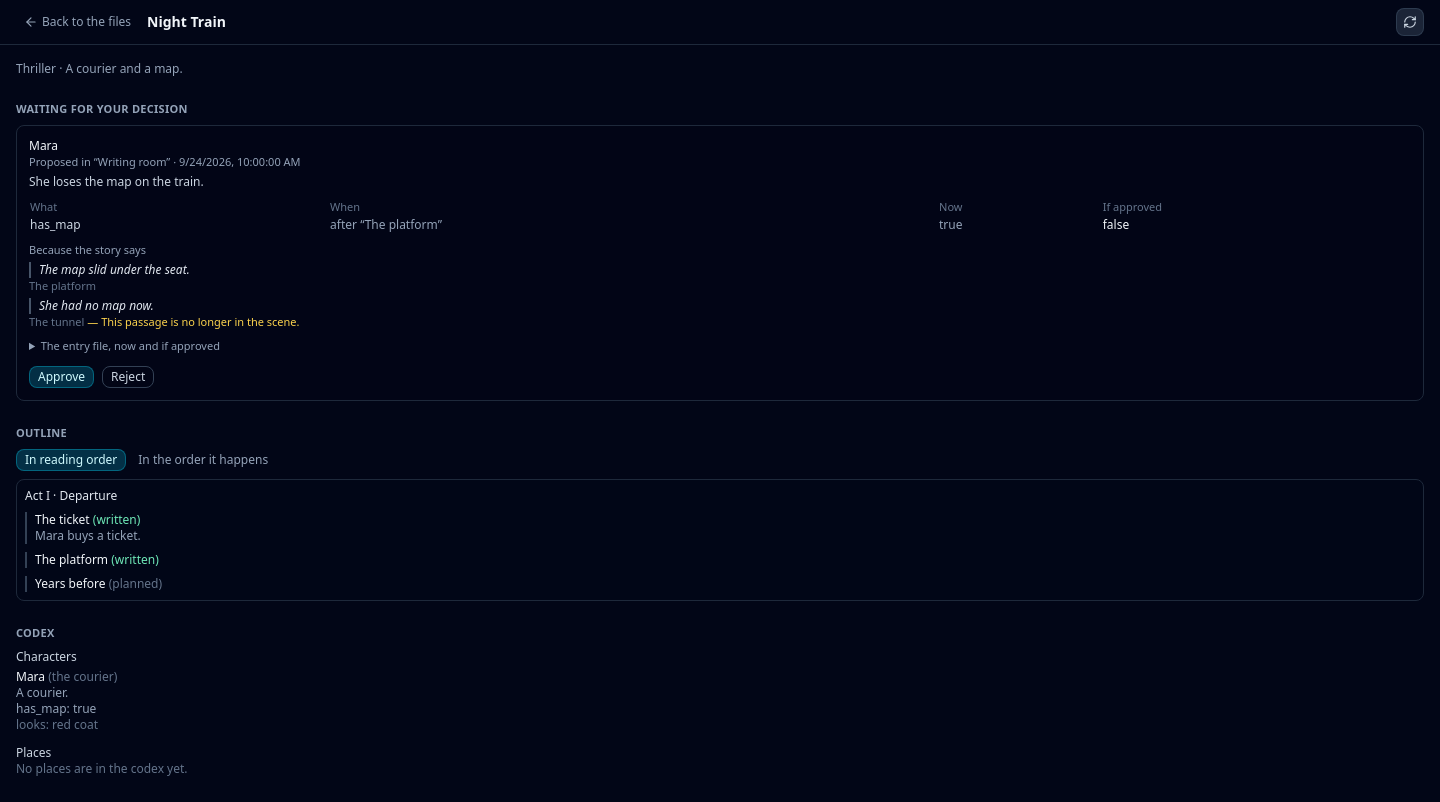
StoryView, a story in Files (#1560) › says plainly when no confirmed window could be opened
Click the button with test id "story-approve": (62, 377) [29,366,94,388]
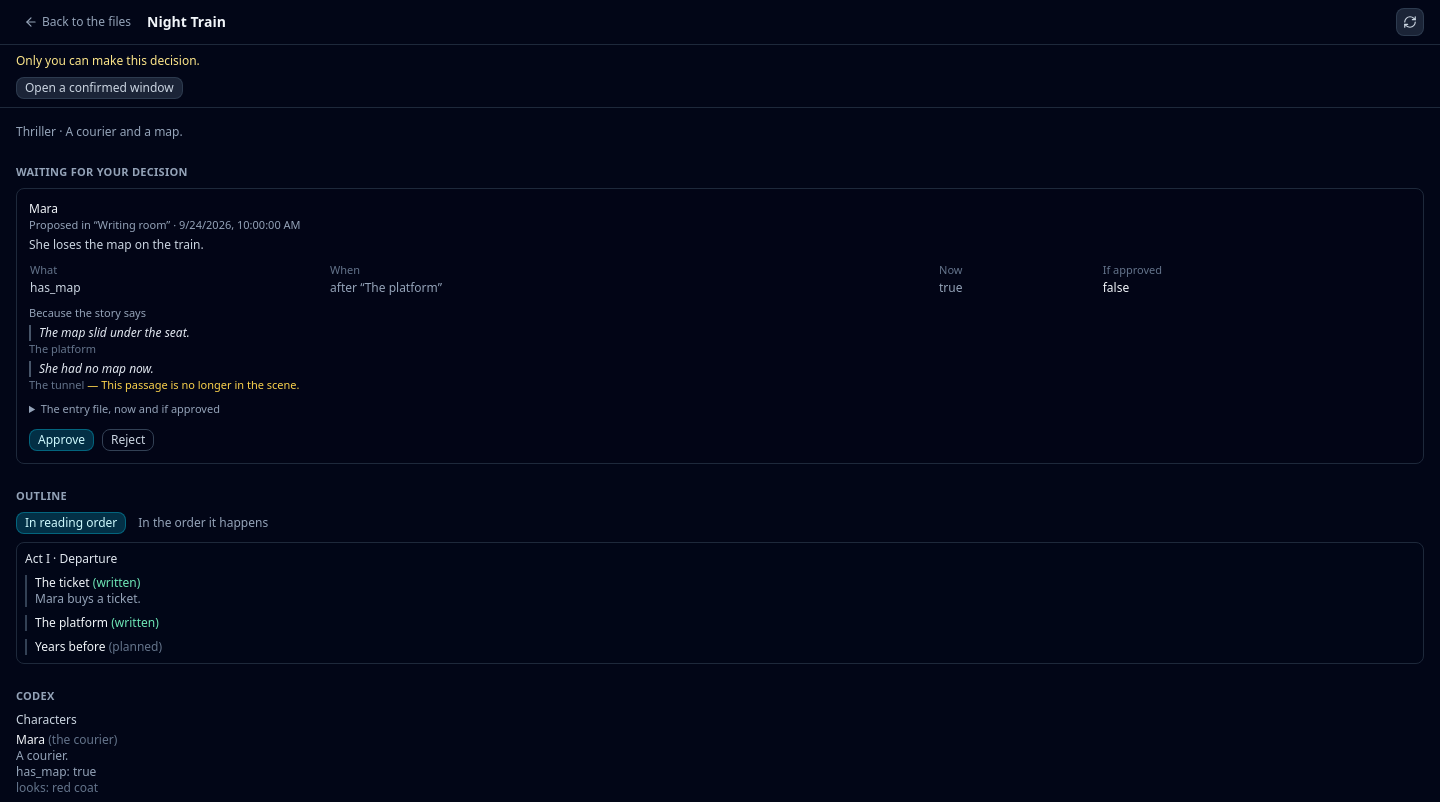
Click the button with test id "story-open-confirmed-window": (99, 88) [16,77,183,99]
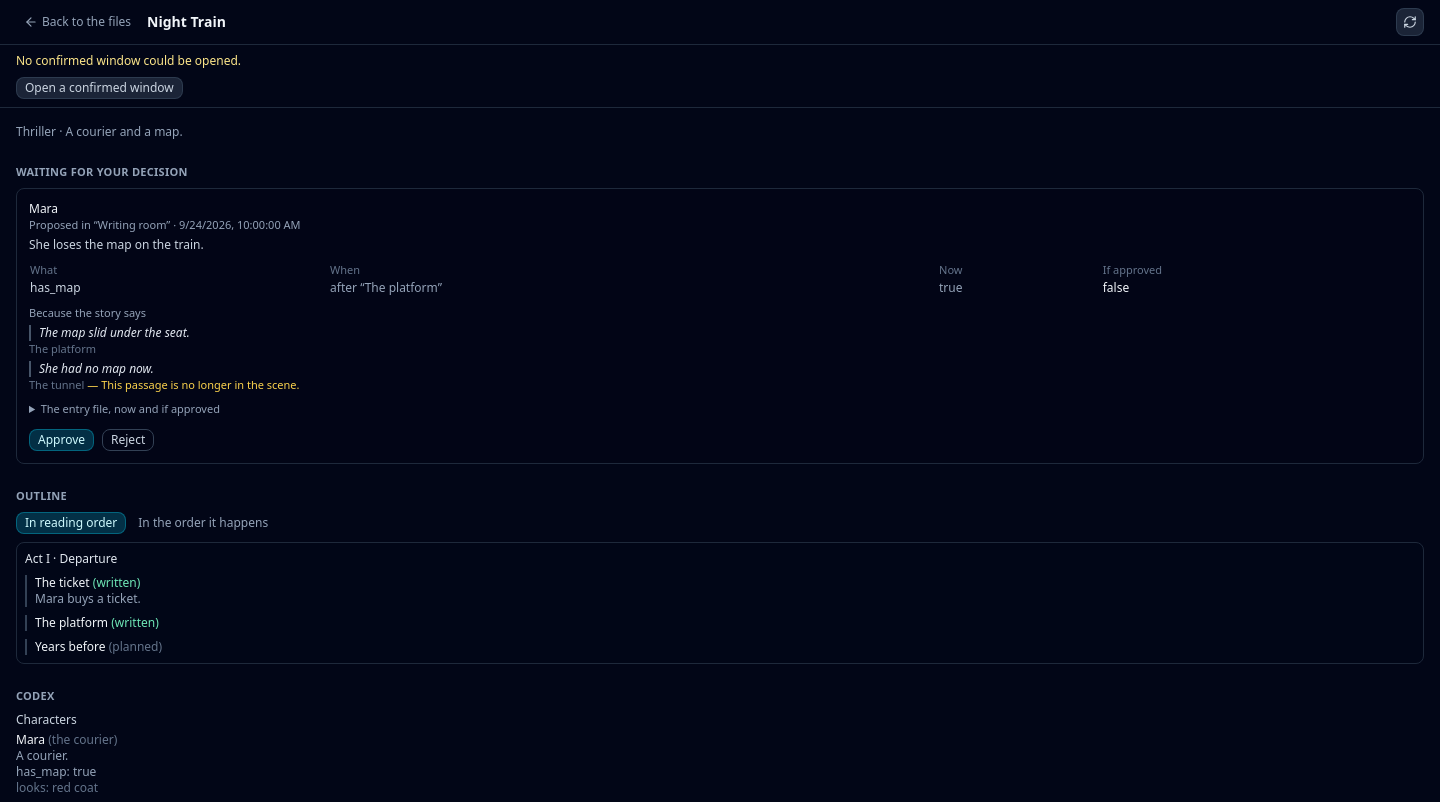
Expected: the element with test id "story-view-notice" does not show ""
Expected: the text "No confirmed window could be opened." is shown, [16,52,241,69]
